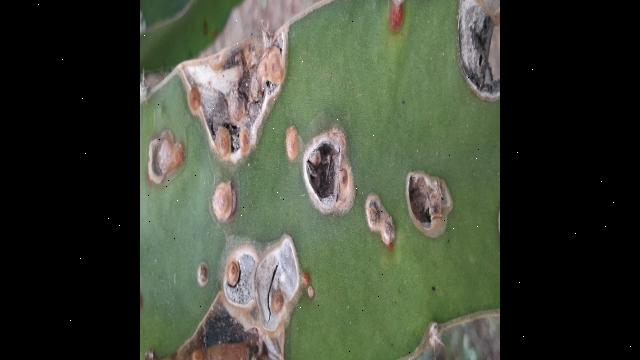stemcanker: (147, 131, 187, 188), (363, 192, 397, 251), (209, 177, 241, 226), (284, 123, 303, 162), (195, 261, 212, 290)
